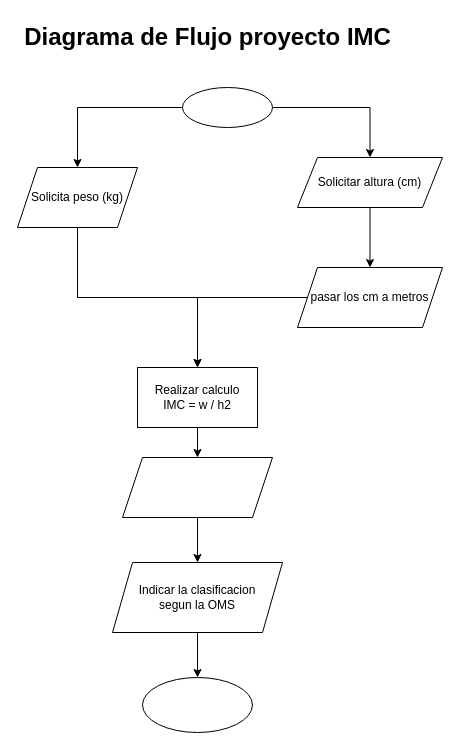
Some shapes in this 460 by 750 pixel diagram are drawn without their labels. The shapes that lost their labels are listed below. From the top down, each one's box as (x1, y1, x2, y2) in pixels, then its label:
(182, 86, 272, 128): Inicio
(122, 456, 272, 518): Indicar resultado con 2 decimales
(142, 676, 252, 732): FIn
